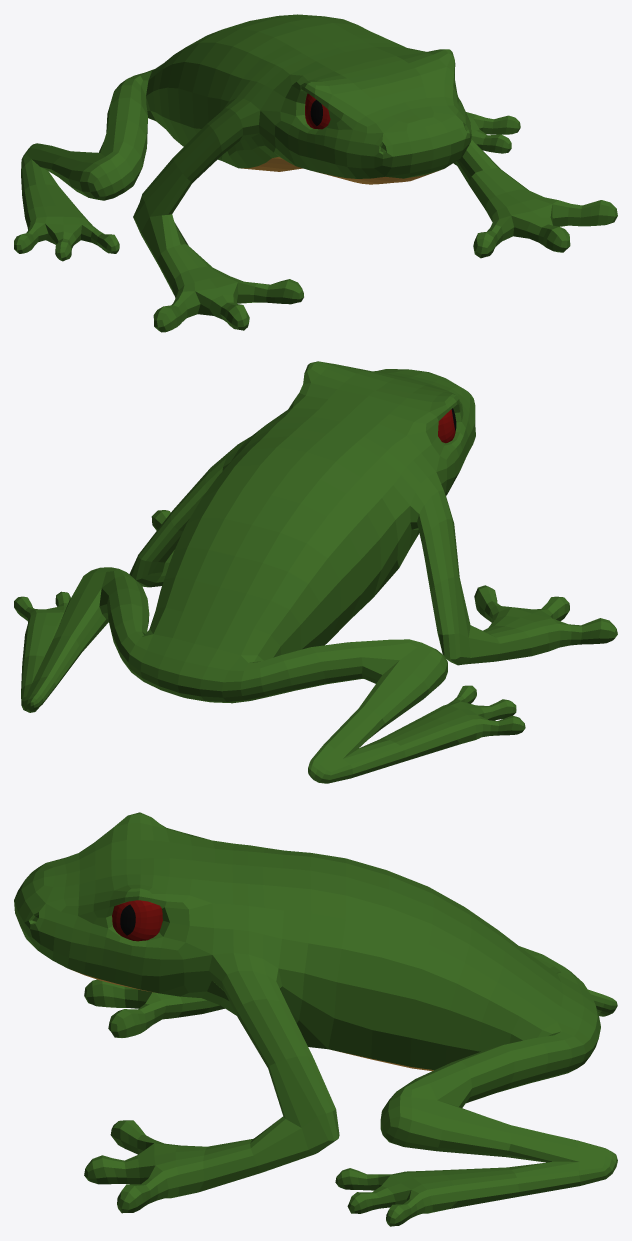
Rendered from Frog.obj.
3 views of the same model, one above another, from view 1: azimuth 30°, elevation 25°; view 2: azimuth 150°, elevation 25°; view 3: azimuth 270°, elevation 25° (orthographic). The views are drawn at different scales.
Parts seen in each view (by area): view 1: Frog_Cylinder; view 2: Frog_Cylinder; view 3: Frog_Cylinder.
Boxes of the visible parts, box(x1,y1,x2,y2) form: Frog_Cylinder: box(14, 14, 617, 332); Frog_Cylinder: box(14, 361, 617, 783); Frog_Cylinder: box(14, 812, 617, 1226).
Bounding box in the file's own units: 3.51 × 1.43 × 3.19.
